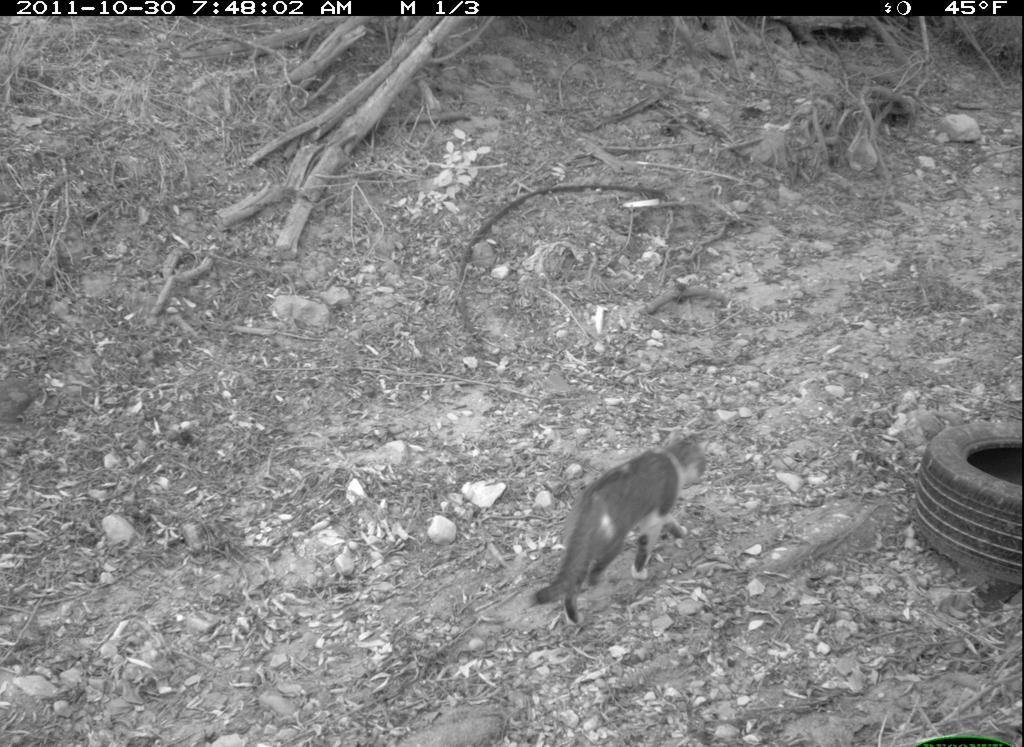cat: (527, 427, 730, 639)
